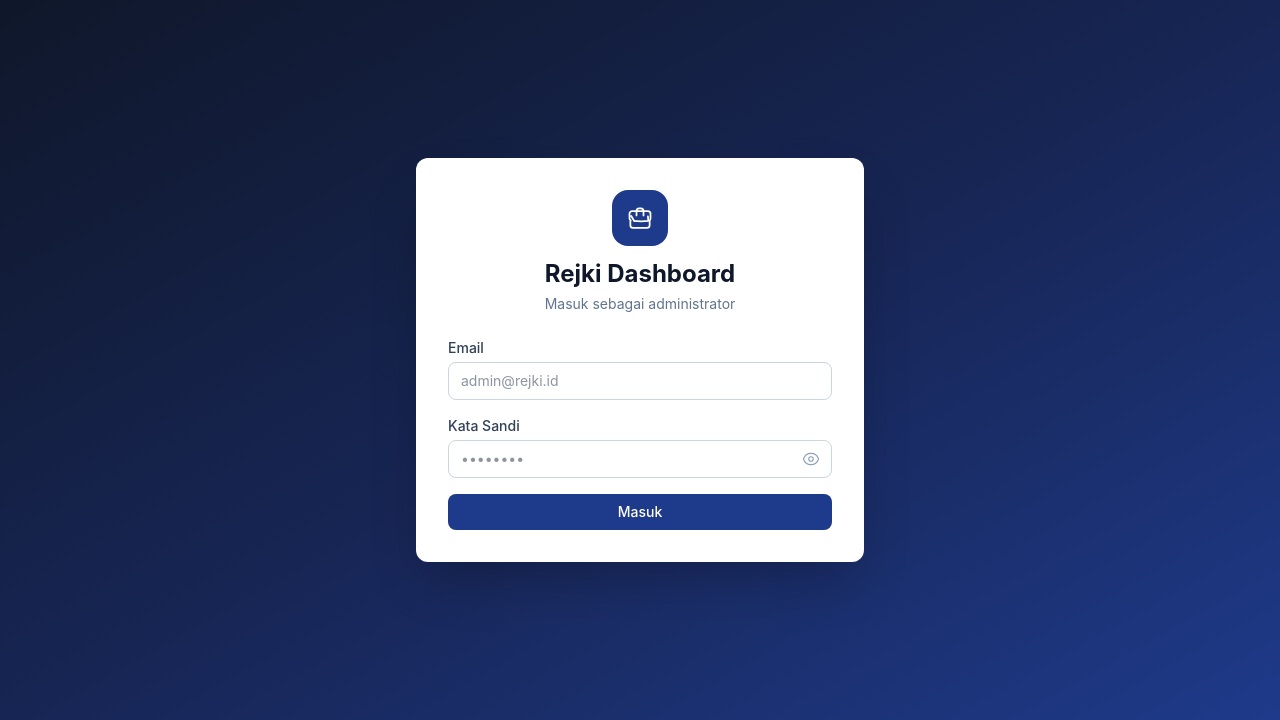
LoginPage › menolak token non-admin (anti bypass)
The image size is (1280, 720).
Type "user@rejki.id" into the field labelled "Email" at (640, 381), box [448,362,832,400]
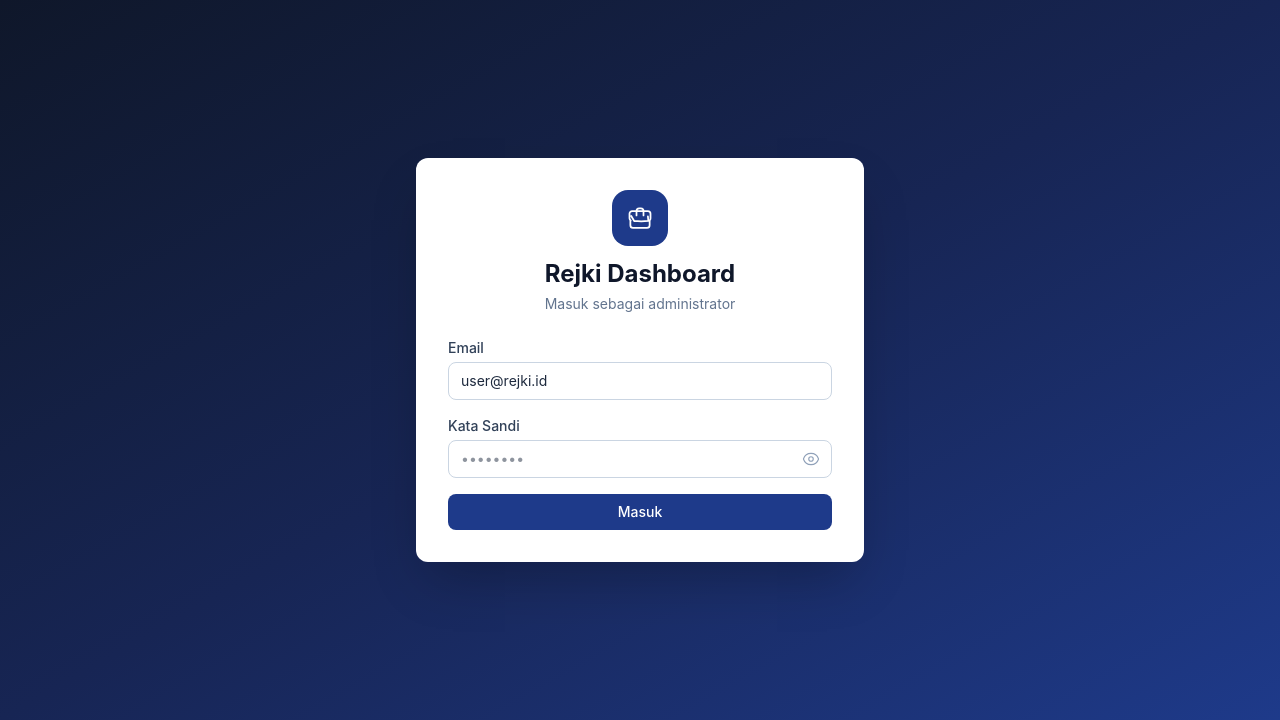
Type "pass" into the password field labelled "Kata Sandi" at (640, 459), box [448,440,832,478]
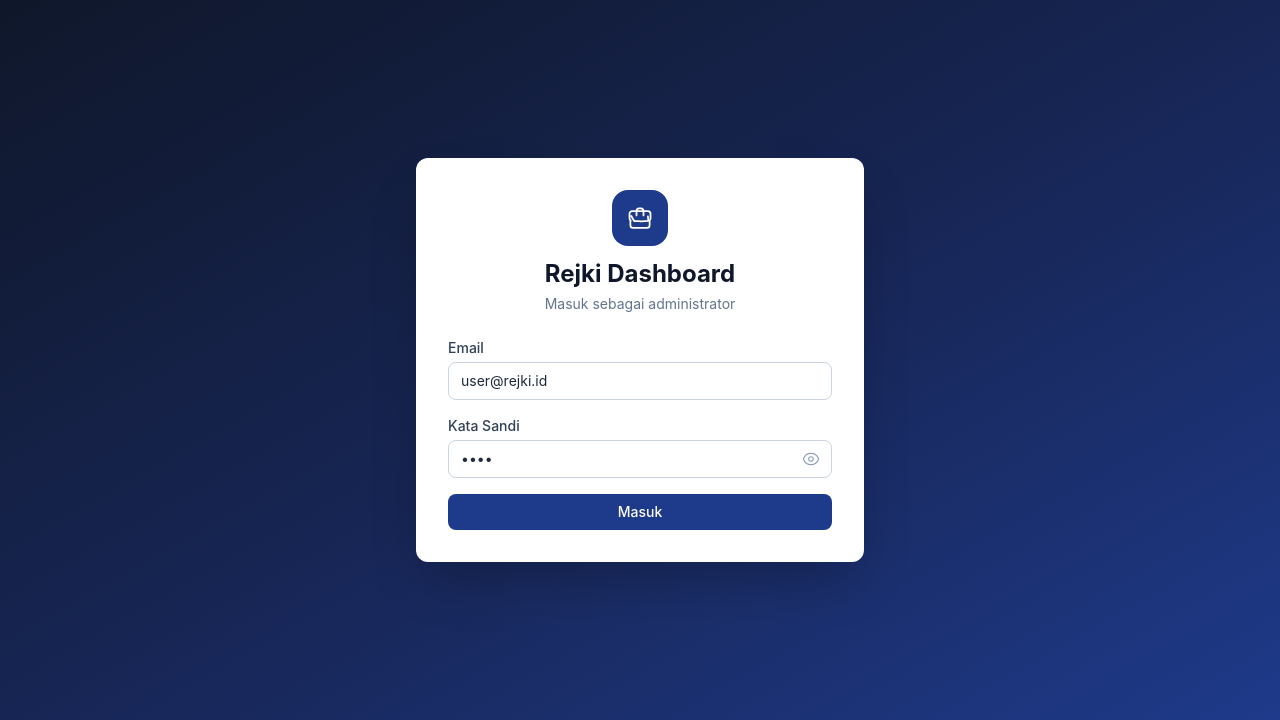
Submit the form, box [448,338,832,530]
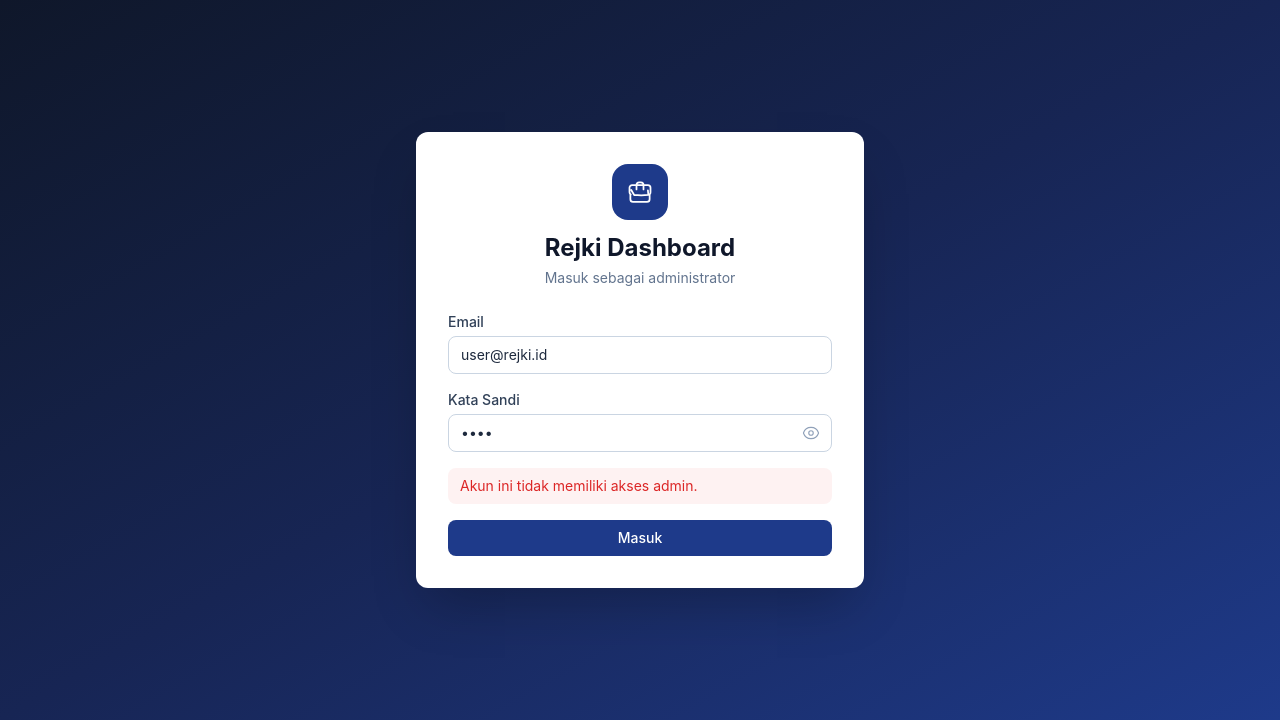
Expected: the text "tidak memiliki akses admin" is shown, [460,477,698,494]
